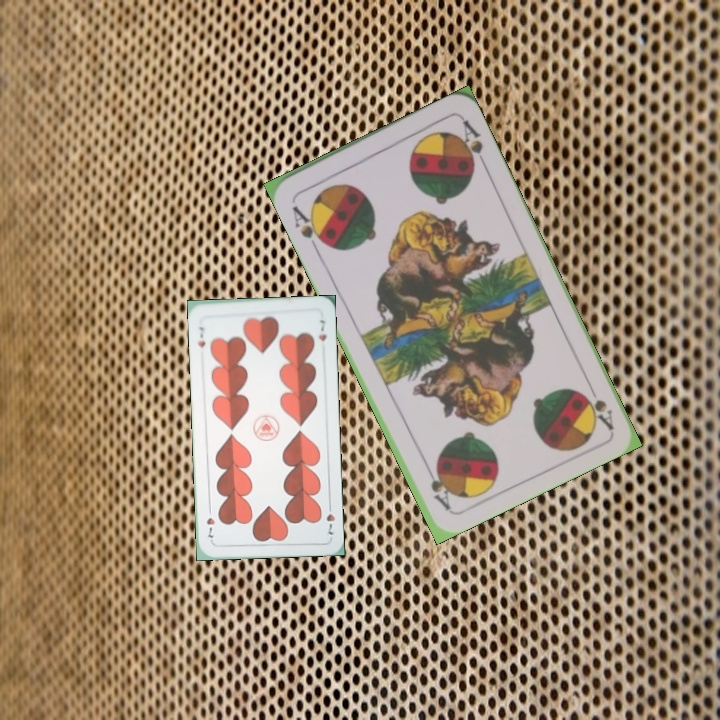H7: (322, 499, 337, 538), (194, 323, 208, 350)
SA: (577, 376, 616, 432), (288, 201, 329, 252)
